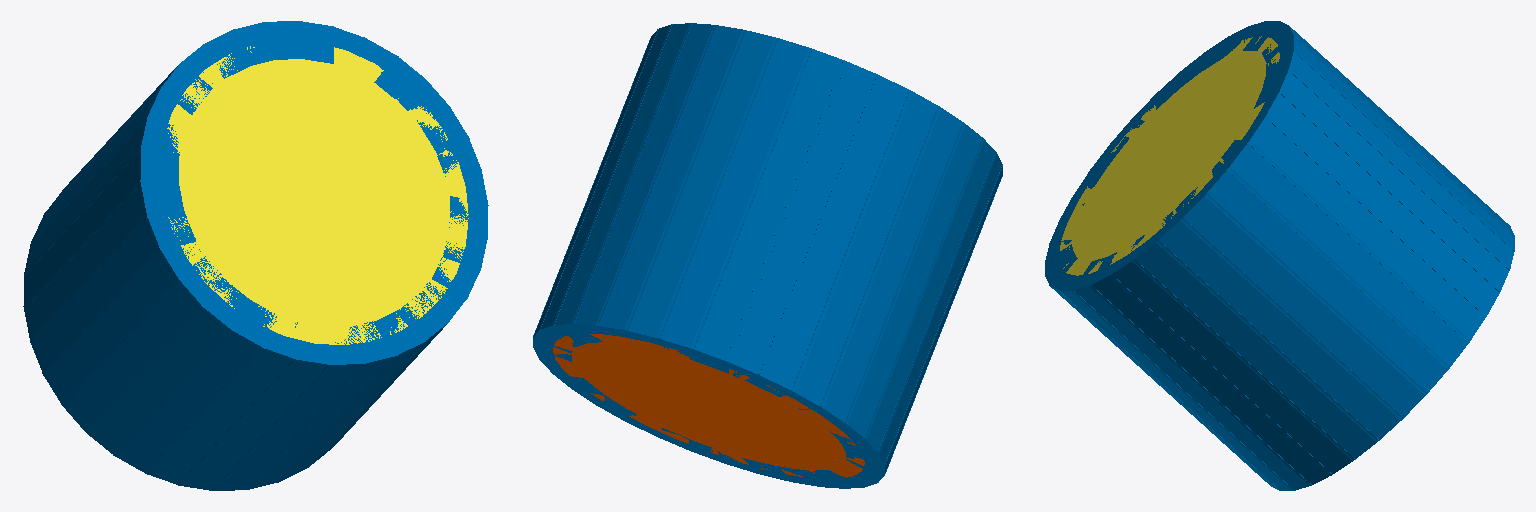
robot.urdf — panda:
<?xml version="1.0" ?>
<robot name="panda" xmlns:xacro="http://www.ros.org/wiki/xacro">
  <material name="Vis"><color rgba="0.0 0.0 0.0 0.0"/></material>
  <link name="panda_link0">
    <visual>
      <geometry>
        <mesh filename="package://franka_description/meshes/visual/link0.dae"/>
      </geometry>
    </visual>
    <collision>
      <geometry>
        <mesh filename="package://franka_description/meshes/collision/link0.obj"/>
      </geometry>
    </collision>
  </link>
  <link name="panda_link1">
    <visual>
      <geometry>
        <mesh filename="package://franka_description/meshes/visual/link1.dae"/>
      </geometry>
    </visual>
    <collision>
      <geometry>
        <mesh filename="package://franka_description/meshes/collision/link1.obj"/>
      </geometry>
    </collision>
  </link>
  <joint name="panda_joint1" type="revolute">
    <safety_controller k_position="100.0" k_velocity="40.0" soft_lower_limit="-2.8973" soft_upper_limit="2.8973"/>
    <origin rpy="0 0 0" xyz="0 0 0.333"/>
    <parent link="panda_link0"/>
    <child link="panda_link1"/>
    <axis xyz="0 0 1"/>
    <dynamics damping="10.0"/>
    <limit effort="87" lower="-2.8973" upper="2.8973" velocity="2.1750"/>
  </joint>
  <link name="panda_link2">
    <visual>
      <geometry>
        <mesh filename="package://franka_description/meshes/visual/link2.dae"/>
      </geometry>
    </visual>
    <collision>
      <geometry>
        <mesh filename="package://franka_description/meshes/collision/link2.obj"/>
      </geometry>
    </collision>
  </link>
  <joint name="panda_joint2" type="revolute">
    <safety_controller k_position="100.0" k_velocity="40.0" soft_lower_limit="-1.7628" soft_upper_limit="1.7628"/>
    <origin rpy="-1.57079632679 0 0" xyz="0 0 0"/>
    <parent link="panda_link1"/>
    <child link="panda_link2"/>
    <axis xyz="0 0 1"/>
    <dynamics damping="10.0"/>
    <limit effort="87" lower="-1.7628" upper="1.7628" velocity="2.1750"/>
  </joint>
  <link name="panda_link3">
    <visual>
      <geometry>
        <mesh filename="package://franka_description/meshes/visual/link3.dae"/>
      </geometry>
    </visual>
    <collision>
      <geometry>
        <mesh filename="package://franka_description/meshes/collision/link3.obj"/>
      </geometry>
    </collision>
  </link>
  <joint name="panda_joint3" type="revolute">
    <safety_controller k_position="100.0" k_velocity="40.0" soft_lower_limit="-2.8973" soft_upper_limit="2.8973"/>
    <origin rpy="1.57079632679 0 0" xyz="0 -0.316 0"/>
    <parent link="panda_link2"/>
    <child link="panda_link3"/>
    <axis xyz="0 0 1"/>
    <dynamics damping="10.0"/>
    <limit effort="87" lower="-2.8973" upper="2.8973" velocity="2.1750"/>
  </joint>
  <link name="panda_link4">
    <visual>
      <geometry>
        <mesh filename="package://franka_description/meshes/visual/link4.dae"/>
      </geometry>
    </visual>
    <collision>
      <geometry>
        <mesh filename="package://franka_description/meshes/collision/link4.obj"/>
      </geometry>
    </collision>
  </link>
  <joint name="panda_joint4" type="revolute">
    <safety_controller k_position="100.0" k_velocity="40.0" soft_lower_limit="-3.0718" soft_upper_limit="-0.0698"/>
    <origin rpy="1.57079632679 0 0" xyz="0.0825 0 0"/>
    <parent link="panda_link3"/>
    <child link="panda_link4"/>
    <axis xyz="0 0 1"/>
    <dynamics damping="10.0"/>
    <limit effort="87" lower="-3.0718" upper="-0.0698" velocity="2.1750"/>
    <!-- something is weird with this joint limit config
    <dynamics damping="10.0"/>
    <limit effort="87" lower="-3.0" upper="0.087" velocity="2.1750"/>  -->
  </joint>
  <link name="panda_link5">
    <visual>
      <geometry>
        <mesh filename="package://franka_description/meshes/visual/link5.dae"/>
      </geometry>
    </visual>
    <collision>
      <geometry>
        <mesh filename="package://franka_description/meshes/collision/link5.obj"/>
      </geometry>
    </collision>
  </link>
  <joint name="panda_joint5" type="revolute">
    <safety_controller k_position="100.0" k_velocity="40.0" soft_lower_limit="-2.8973" soft_upper_limit="2.8973"/>
    <origin rpy="-1.57079632679 0 0" xyz="-0.0825 0.384 0"/>
    <parent link="panda_link4"/>
    <child link="panda_link5"/>
    <axis xyz="0 0 1"/>
    <dynamics damping="10.0"/>
    <limit effort="12" lower="-2.8973" upper="2.8973" velocity="2.6100"/>
  </joint>
  <link name="panda_link6">
    <visual>
      <geometry>
        <mesh filename="package://franka_description/meshes/visual/link6.dae"/>
      </geometry>
    </visual>
    <collision>
      <geometry>
        <mesh filename="package://franka_description/meshes/collision/link6.obj"/>
      </geometry>
    </collision>
  </link>
  <joint name="panda_joint6" type="revolute">
    <safety_controller k_position="100.0" k_velocity="40.0" soft_lower_limit="-0.0175" soft_upper_limit="3.7525"/>
    <origin rpy="1.57079632679 0 0" xyz="0 0 0"/>
    <parent link="panda_link5"/>
    <child link="panda_link6"/>
    <axis xyz="0 0 1"/>
    <dynamics damping="10.0"/>
    <limit effort="12" lower="-0.0175" upper="3.7525" velocity="2.6100"/>
    <!-- <dynamics damping="10.0"/>
    <limit effort="12" lower="-0.0873" upper="3.0" velocity="2.6100"/> -->
  </joint>
  <link name="panda_link7">
    <visual>
      <geometry>
        <mesh filename="package://franka_description/meshes/visual/link7.dae"/>
      </geometry>
    </visual>
    <collision>
      <geometry>
        <mesh filename="package://franka_description/meshes/collision/link7.obj"/>
      </geometry>
    </collision>
  </link>
  <joint name="panda_joint7" type="revolute">
    <safety_controller k_position="100.0" k_velocity="40.0" soft_lower_limit="-2.8973" soft_upper_limit="2.8973"/>
    <origin rpy="1.57079632679 0 0" xyz="0.088 0 0"/>
    <parent link="panda_link6"/>
    <child link="panda_link7"/>
    <axis xyz="0 0 1"/>
    <dynamics damping="10.0"/>
    <limit effort="12" lower="-2.8973" upper="2.8973" velocity="2.6100"/>
  </joint>

  <joint name="panda_hand_joint" type="fixed">
    <!--
    <parent link="panda_link8"/>
    -->
    <parent link="panda_link7"/>
    <child link="panda_hand"/>
    <origin rpy="0 0 -0.785398163397" xyz="0 0 0.107"/>
    <!--
    <origin rpy="0 0 -0.785398163397" xyz="0 0 0"/>
    -->
  </joint>
  <link name="panda_hand">
  </link>
  <joint name="panda_hand_y_axis_joint" type="fixed">
    <parent link="panda_hand"/>
    <child link="panda_hand_y_axis"/>
    <origin rpy="0 0 0" xyz="0 0.01 0"/>
  </joint>
  <link name="panda_hand_y_axis">
  </link>
  <joint name="panda_hand_z_axis_joint" type="fixed">
    <parent link="panda_hand"/>
    <child link="panda_hand_z_axis"/>
    <origin rpy="0 0 0" xyz="0 0 0.01"/>
  </joint>
  <link name="panda_hand_z_axis">
  </link>

<joint name="franka_pitcher_joint" type="fixed">
    <origin rpy="1.57079632679 0 0.7853981633974483" xyz="-0.06 0.06 0.16699999999999998" />
    <parent link="panda_link7" />
    <child link="pitcher_base" />
</joint><link name="pitcher_base">
    <collision>
        <origin rpy="0 0 0" xyz="0 0 0.0075" />
        <geometry>
            <cylinder length="0.015" radius="0.06" />
        </geometry>
    </collision>
    <visual>
        <origin rpy="0 0 0" xyz="0 0 0.0075" />
        <geometry>
            <cylinder length="0.015" radius="0.06" />
        </geometry>
    </visual>
    <inertial>
        <mass value="0.014705882352941176" />
    </inertial>
</link><joint name="pitcher_joint" type="fixed">
    <origin rpy="0 0 0" xyz="0 0 0.06" />
    <parent link="pitcher_base" />
    <child link="pitcher_wall" />
</joint><link name="pitcher_wall">
    <collision>
        <origin rpy="0 0 0.0" xyz="0.06 0.0 0" />
        <geometry>
            <box size="0.015 0.014726215563702155 0.12" />
        </geometry>
    </collision>
    <collision>
        <origin rpy="0 0 0.19634954084936207" xyz="0.05884711682419382 0.011705419320967695 0" />
        <geometry>
            <box size="0.015 0.014726215563702155 0.12" />
        </geometry>
    </collision>
    <collision>
        <origin rpy="0 0 0.39269908169872414" xyz="0.0554327719506772 0.022961005941905387 0" />
        <geometry>
            <box size="0.015 0.014726215563702155 0.12" />
        </geometry>
    </collision>
    <collision>
        <origin rpy="0 0 0.5890486225480862" xyz="0.04988817673815271 0.03333421398117613 0" />
        <geometry>
            <box size="0.015 0.014726215563702155 0.12" />
        </geometry>
    </collision>
    <collision>
        <origin rpy="0 0 0.7853981633974483" xyz="0.042426406871192854 0.04242640687119285 0" />
        <geometry>
            <box size="0.015 0.014726215563702155 0.12" />
        </geometry>
    </collision>
    <collision>
        <origin rpy="0 0 0.9817477042468103" xyz="0.033334213981176135 0.04988817673815271 0" />
        <geometry>
            <box size="0.015 0.014726215563702155 0.12" />
        </geometry>
    </collision>
    <collision>
        <origin rpy="0 0 1.1780972450961724" xyz="0.02296100594190539 0.0554327719506772 0" />
        <geometry>
            <box size="0.015 0.014726215563702155 0.12" />
        </geometry>
    </collision>
    <collision>
        <origin rpy="0 0 1.3744467859455345" xyz="0.0117054193209677 0.05884711682419382 0" />
        <geometry>
            <box size="0.015 0.014726215563702155 0.12" />
        </geometry>
    </collision>
    <collision>
        <origin rpy="0 0 1.5707963267948966" xyz="3.673940397442059e-18 0.06 0" />
        <geometry>
            <box size="0.015 0.014726215563702155 0.12" />
        </geometry>
    </collision>
    <collision>
        <origin rpy="0 0 1.7671458676442586" xyz="-0.011705419320967692 0.05884711682419382 0" />
        <geometry>
            <box size="0.015 0.014726215563702155 0.12" />
        </geometry>
    </collision>
    <collision>
        <origin rpy="0 0 1.9634954084936207" xyz="-0.022961005941905383 0.0554327719506772 0" />
        <geometry>
            <box size="0.015 0.014726215563702155 0.12" />
        </geometry>
    </collision>
    <collision>
        <origin rpy="0 0 2.1598449493429825" xyz="-0.033334213981176114 0.049888176738152726 0" />
        <geometry>
            <box size="0.015 0.014726215563702155 0.12" />
        </geometry>
    </collision>
    <collision>
        <origin rpy="0 0 2.356194490192345" xyz="-0.04242640687119285 0.042426406871192854 0" />
        <geometry>
            <box size="0.015 0.014726215563702155 0.12" />
        </geometry>
    </collision>
    <collision>
        <origin rpy="0 0 2.552544031041707" xyz="-0.04988817673815272 0.03333421398117613 0" />
        <geometry>
            <box size="0.015 0.014726215563702155 0.12" />
        </geometry>
    </collision>
    <collision>
        <origin rpy="0 0 2.748893571891069" xyz="-0.0554327719506772 0.022961005941905394 0" />
        <geometry>
            <box size="0.015 0.014726215563702155 0.12" />
        </geometry>
    </collision>
    <collision>
        <origin rpy="0 0 2.945243112740431" xyz="-0.05884711682419382 0.011705419320967716 0" />
        <geometry>
            <box size="0.015 0.014726215563702155 0.12" />
        </geometry>
    </collision>
    <collision>
        <origin rpy="0 0 3.141592653589793" xyz="-0.06 7.347880794884118e-18 0" />
        <geometry>
            <box size="0.015 0.014726215563702155 0.12" />
        </geometry>
    </collision>
    <collision>
        <origin rpy="0 0 3.3379421944391554" xyz="-0.05884711682419382 -0.011705419320967702 0" />
        <geometry>
            <box size="0.015 0.014726215563702155 0.12" />
        </geometry>
    </collision>
    <collision>
        <origin rpy="0 0 3.5342917352885173" xyz="-0.05543277195067721 -0.02296100594190538 0" />
        <geometry>
            <box size="0.015 0.014726215563702155 0.12" />
        </geometry>
    </collision>
    <collision>
        <origin rpy="0 0 3.730641276137879" xyz="-0.049888176738152726 -0.033334213981176114 0" />
        <geometry>
            <box size="0.015 0.014726215563702155 0.12" />
        </geometry>
    </collision>
    <collision>
        <origin rpy="0 0 3.9269908169872414" xyz="-0.04242640687119286 -0.04242640687119285 0" />
        <geometry>
            <box size="0.015 0.014726215563702155 0.12" />
        </geometry>
    </collision>
    <collision>
        <origin rpy="0 0 4.123340357836604" xyz="-0.03333421398117613 -0.04988817673815271 0" />
        <geometry>
            <box size="0.015 0.014726215563702155 0.12" />
        </geometry>
    </collision>
    <collision>
        <origin rpy="0 0 4.319689898685965" xyz="-0.022961005941905418 -0.05543277195067719 0" />
        <geometry>
            <box size="0.015 0.014726215563702155 0.12" />
        </geometry>
    </collision>
    <collision>
        <origin rpy="0 0 4.516039439535327" xyz="-0.01170541932096772 -0.058847116824193815 0" />
        <geometry>
            <box size="0.015 0.014726215563702155 0.12" />
        </geometry>
    </collision>
    <collision>
        <origin rpy="0 0 4.71238898038469" xyz="-1.1021821192326178e-17 -0.06 0" />
        <geometry>
            <box size="0.015 0.014726215563702155 0.12" />
        </geometry>
    </collision>
    <collision>
        <origin rpy="0 0 4.908738521234052" xyz="0.011705419320967698 -0.05884711682419382 0" />
        <geometry>
            <box size="0.015 0.014726215563702155 0.12" />
        </geometry>
    </collision>
    <collision>
        <origin rpy="0 0 5.105088062083414" xyz="0.0229610059419054 -0.055432771950677195 0" />
        <geometry>
            <box size="0.015 0.014726215563702155 0.12" />
        </geometry>
    </collision>
    <collision>
        <origin rpy="0 0 5.301437602932776" xyz="0.03333421398117611 -0.049888176738152726 0" />
        <geometry>
            <box size="0.015 0.014726215563702155 0.12" />
        </geometry>
    </collision>
    <collision>
        <origin rpy="0 0 5.497787143782138" xyz="0.04242640687119284 -0.04242640687119286 0" />
        <geometry>
            <box size="0.015 0.014726215563702155 0.12" />
        </geometry>
    </collision>
    <collision>
        <origin rpy="0 0 5.6941366846315" xyz="0.04988817673815271 -0.03333421398117613 0" />
        <geometry>
            <box size="0.015 0.014726215563702155 0.12" />
        </geometry>
    </collision>
    <collision>
        <origin rpy="0 0 5.890486225480862" xyz="0.05543277195067719 -0.02296100594190542 0" />
        <geometry>
            <box size="0.015 0.014726215563702155 0.12" />
        </geometry>
    </collision>
    <collision>
        <origin rpy="0 0 6.086835766330224" xyz="0.058847116824193815 -0.011705419320967723 0" />
        <geometry>
            <box size="0.015 0.014726215563702155 0.12" />
        </geometry>
    </collision>
    <visual>
        <origin rpy="0 0 0.0" xyz="0.06 0.0 0" />
        <geometry>
            <box size="0.015 0.014726215563702155 0.12" />
        </geometry>
    </visual>
    <visual>
        <origin rpy="0 0 0.19634954084936207" xyz="0.05884711682419382 0.011705419320967695 0" />
        <geometry>
            <box size="0.015 0.014726215563702155 0.12" />
        </geometry>
    </visual>
    <visual>
        <origin rpy="0 0 0.39269908169872414" xyz="0.0554327719506772 0.022961005941905387 0" />
        <geometry>
            <box size="0.015 0.014726215563702155 0.12" />
        </geometry>
    </visual>
    <visual>
        <origin rpy="0 0 0.5890486225480862" xyz="0.04988817673815271 0.03333421398117613 0" />
        <geometry>
            <box size="0.015 0.014726215563702155 0.12" />
        </geometry>
    </visual>
    <visual>
        <origin rpy="0 0 0.7853981633974483" xyz="0.042426406871192854 0.04242640687119285 0" />
        <geometry>
            <box size="0.015 0.014726215563702155 0.12" />
        </geometry>
    </visual>
    <visual>
        <origin rpy="0 0 0.9817477042468103" xyz="0.033334213981176135 0.04988817673815271 0" />
        <geometry>
            <box size="0.015 0.014726215563702155 0.12" />
        </geometry>
    </visual>
    <visual>
        <origin rpy="0 0 1.1780972450961724" xyz="0.02296100594190539 0.0554327719506772 0" />
        <geometry>
            <box size="0.015 0.014726215563702155 0.12" />
        </geometry>
    </visual>
    <visual>
        <origin rpy="0 0 1.3744467859455345" xyz="0.0117054193209677 0.05884711682419382 0" />
        <geometry>
            <box size="0.015 0.014726215563702155 0.12" />
        </geometry>
    </visual>
    <visual>
        <origin rpy="0 0 1.5707963267948966" xyz="3.673940397442059e-18 0.06 0" />
        <geometry>
            <box size="0.015 0.014726215563702155 0.12" />
        </geometry>
    </visual>
    <visual>
        <origin rpy="0 0 1.7671458676442586" xyz="-0.011705419320967692 0.05884711682419382 0" />
        <geometry>
            <box size="0.015 0.014726215563702155 0.12" />
        </geometry>
    </visual>
    <visual>
        <origin rpy="0 0 1.9634954084936207" xyz="-0.022961005941905383 0.0554327719506772 0" />
        <geometry>
            <box size="0.015 0.014726215563702155 0.12" />
        </geometry>
    </visual>
    <visual>
        <origin rpy="0 0 2.1598449493429825" xyz="-0.033334213981176114 0.049888176738152726 0" />
        <geometry>
            <box size="0.015 0.014726215563702155 0.12" />
        </geometry>
    </visual>
    <visual>
        <origin rpy="0 0 2.356194490192345" xyz="-0.04242640687119285 0.042426406871192854 0" />
        <geometry>
            <box size="0.015 0.014726215563702155 0.12" />
        </geometry>
    </visual>
    <visual>
        <origin rpy="0 0 2.552544031041707" xyz="-0.04988817673815272 0.03333421398117613 0" />
        <geometry>
            <box size="0.015 0.014726215563702155 0.12" />
        </geometry>
    </visual>
    <visual>
        <origin rpy="0 0 2.748893571891069" xyz="-0.0554327719506772 0.022961005941905394 0" />
        <geometry>
            <box size="0.015 0.014726215563702155 0.12" />
        </geometry>
    </visual>
    <visual>
        <origin rpy="0 0 2.945243112740431" xyz="-0.05884711682419382 0.011705419320967716 0" />
        <geometry>
            <box size="0.015 0.014726215563702155 0.12" />
        </geometry>
    </visual>
    <visual>
        <origin rpy="0 0 3.141592653589793" xyz="-0.06 7.347880794884118e-18 0" />
        <geometry>
            <box size="0.015 0.014726215563702155 0.12" />
        </geometry>
    </visual>
    <visual>
        <origin rpy="0 0 3.3379421944391554" xyz="-0.05884711682419382 -0.011705419320967702 0" />
        <geometry>
            <box size="0.015 0.014726215563702155 0.12" />
        </geometry>
    </visual>
    <visual>
        <origin rpy="0 0 3.5342917352885173" xyz="-0.05543277195067721 -0.02296100594190538 0" />
        <geometry>
            <box size="0.015 0.014726215563702155 0.12" />
        </geometry>
    </visual>
    <visual>
        <origin rpy="0 0 3.730641276137879" xyz="-0.049888176738152726 -0.033334213981176114 0" />
        <geometry>
            <box size="0.015 0.014726215563702155 0.12" />
        </geometry>
    </visual>
    <visual>
        <origin rpy="0 0 3.9269908169872414" xyz="-0.04242640687119286 -0.04242640687119285 0" />
        <geometry>
            <box size="0.015 0.014726215563702155 0.12" />
        </geometry>
    </visual>
    <visual>
        <origin rpy="0 0 4.123340357836604" xyz="-0.03333421398117613 -0.04988817673815271 0" />
        <geometry>
            <box size="0.015 0.014726215563702155 0.12" />
        </geometry>
    </visual>
    <visual>
        <origin rpy="0 0 4.319689898685965" xyz="-0.022961005941905418 -0.05543277195067719 0" />
        <geometry>
            <box size="0.015 0.014726215563702155 0.12" />
        </geometry>
    </visual>
    <visual>
        <origin rpy="0 0 4.516039439535327" xyz="-0.01170541932096772 -0.058847116824193815 0" />
        <geometry>
            <box size="0.015 0.014726215563702155 0.12" />
        </geometry>
    </visual>
    <visual>
        <origin rpy="0 0 4.71238898038469" xyz="-1.1021821192326178e-17 -0.06 0" />
        <geometry>
            <box size="0.015 0.014726215563702155 0.12" />
        </geometry>
    </visual>
    <visual>
        <origin rpy="0 0 4.908738521234052" xyz="0.011705419320967698 -0.05884711682419382 0" />
        <geometry>
            <box size="0.015 0.014726215563702155 0.12" />
        </geometry>
    </visual>
    <visual>
        <origin rpy="0 0 5.105088062083414" xyz="0.0229610059419054 -0.055432771950677195 0" />
        <geometry>
            <box size="0.015 0.014726215563702155 0.12" />
        </geometry>
    </visual>
    <visual>
        <origin rpy="0 0 5.301437602932776" xyz="0.03333421398117611 -0.049888176738152726 0" />
        <geometry>
            <box size="0.015 0.014726215563702155 0.12" />
        </geometry>
    </visual>
    <visual>
        <origin rpy="0 0 5.497787143782138" xyz="0.04242640687119284 -0.04242640687119286 0" />
        <geometry>
            <box size="0.015 0.014726215563702155 0.12" />
        </geometry>
    </visual>
    <visual>
        <origin rpy="0 0 5.6941366846315" xyz="0.04988817673815271 -0.03333421398117613 0" />
        <geometry>
            <box size="0.015 0.014726215563702155 0.12" />
        </geometry>
    </visual>
    <visual>
        <origin rpy="0 0 5.890486225480862" xyz="0.05543277195067719 -0.02296100594190542 0" />
        <geometry>
            <box size="0.015 0.014726215563702155 0.12" />
        </geometry>
    </visual>
    <visual>
        <origin rpy="0 0 6.086835766330224" xyz="0.058847116824193815 -0.011705419320967723 0" />
        <geometry>
            <box size="0.015 0.014726215563702155 0.12" />
        </geometry>
    </visual>
    <inertial>
        <mass value="0.47058823529411764" />
    </inertial>
</link><joint name="pitcher_lid_joint" type="fixed">
    <origin rpy="0 0 0" xyz="0 0 0.06" />
    <parent link="pitcher_wall" />
    <child link="pitcher_lid" />
</joint><link name="pitcher_lid">
    <collision>
        <origin rpy="0 0 0" xyz="0 0 -0.0075" />
        <geometry>
            <cylinder length="0.015" radius="0.06" />
        </geometry>
    </collision>
    <visual>
        <origin rpy="0 0 0" xyz="0 0 -0.0075" />
        <geometry>
            <cylinder length="0.015" radius="0.06" />
        </geometry>
    </visual>
    <inertial>
        <mass value="0.014705882352941176" />
    </inertial>
</link>
</robot>

--- Facts derived from the render (not from the file) ---
3 views of the same robot in one strip: view 1: azimuth 30°, elevation 25°; view 2: azimuth 150°, elevation 25°; view 3: azimuth 270°, elevation 25° (orthographic).
Model panda with 14 links and 13 joints (7 revolute, 6 fixed), rooted at panda_link0, posed all joints at 0 but 1 set to mid-range because 0 is outside their limits (panda_joint4 = -1.57).
Visible links, largest first — view 1: pitcher_wall, pitcher_base; view 2: pitcher_wall, pitcher_lid; view 3: pitcher_wall, pitcher_base.
Boxes of the visible links, left/top/right/bottom form: pitcher_wall: left=23, top=21, right=488, bottom=490; pitcher_base: left=167, top=46, right=468, bottom=344; pitcher_wall: left=533, top=23, right=1002, bottom=488; pitcher_lid: left=553, top=334, right=864, bottom=477; pitcher_wall: left=1045, top=21, right=1514, bottom=490; pitcher_base: left=1060, top=36, right=1279, bottom=275.
Size in the robot's own frame: 0.1353 by 0.1805 by 0.1805 metres.
Meshes: 8 distinct files referenced, 0 mesh visuals loaded (none loaded); not drawn: 8 (reference not matched to a file when rendering).
